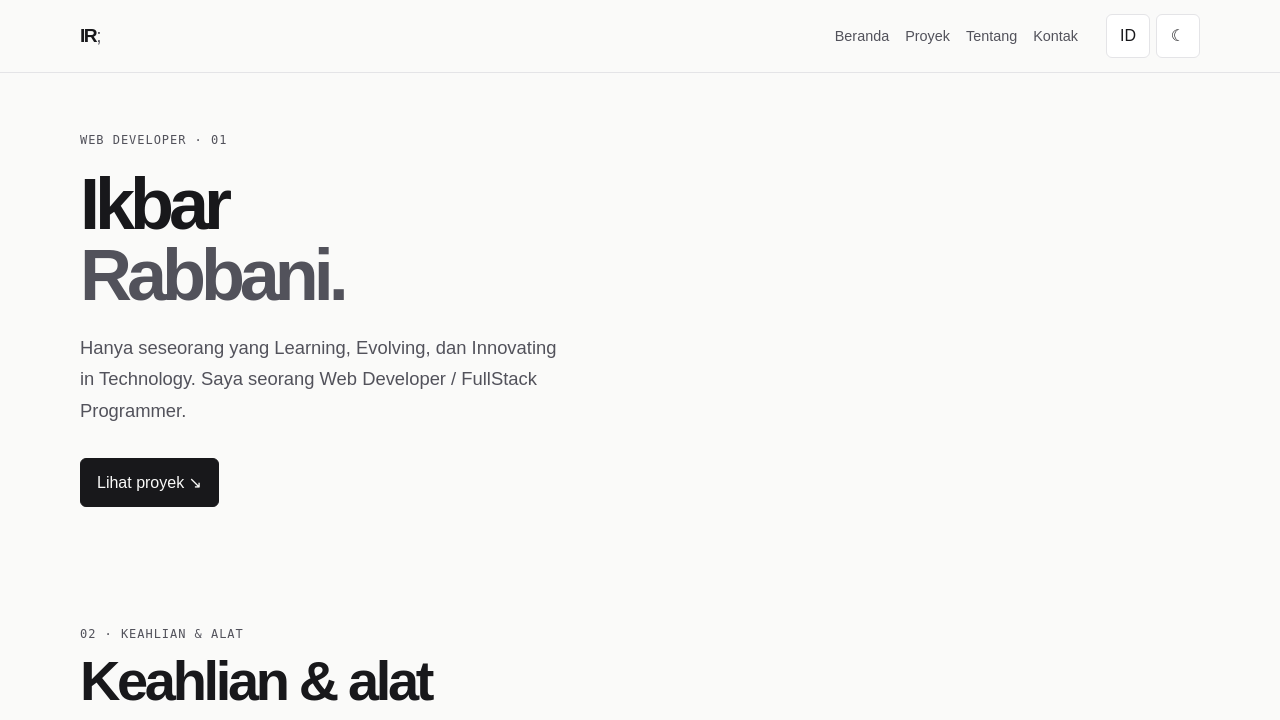
Scenario: routed portfolio › navigates from home to projects and detail
What coordinates should you click on to do the following:
click the link "Proyek"
I would click on:
 (928, 36)
Its box is [905,28,950,44].
(page scrolled)
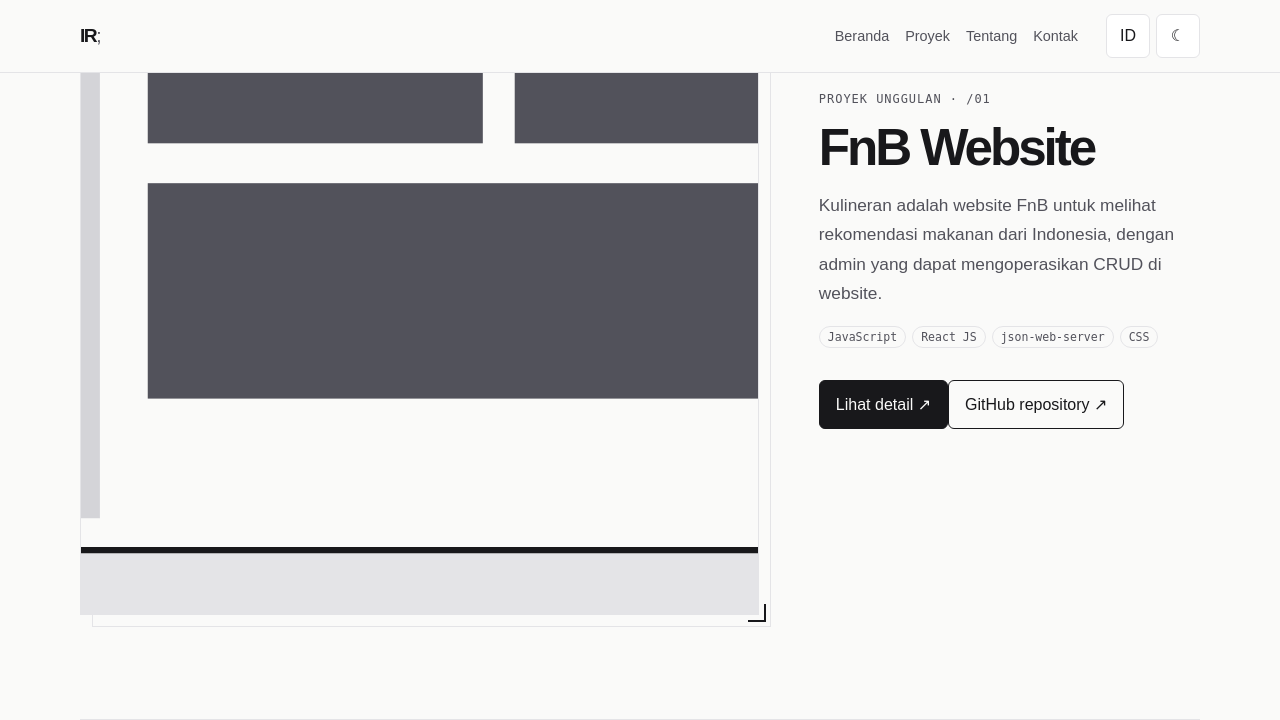
What coordinates should you click on to do the following:
click the link "Lihat detail ↗"
I would click on:
 (883, 404)
Its box is [819,380,948,429].
(page scrolled)
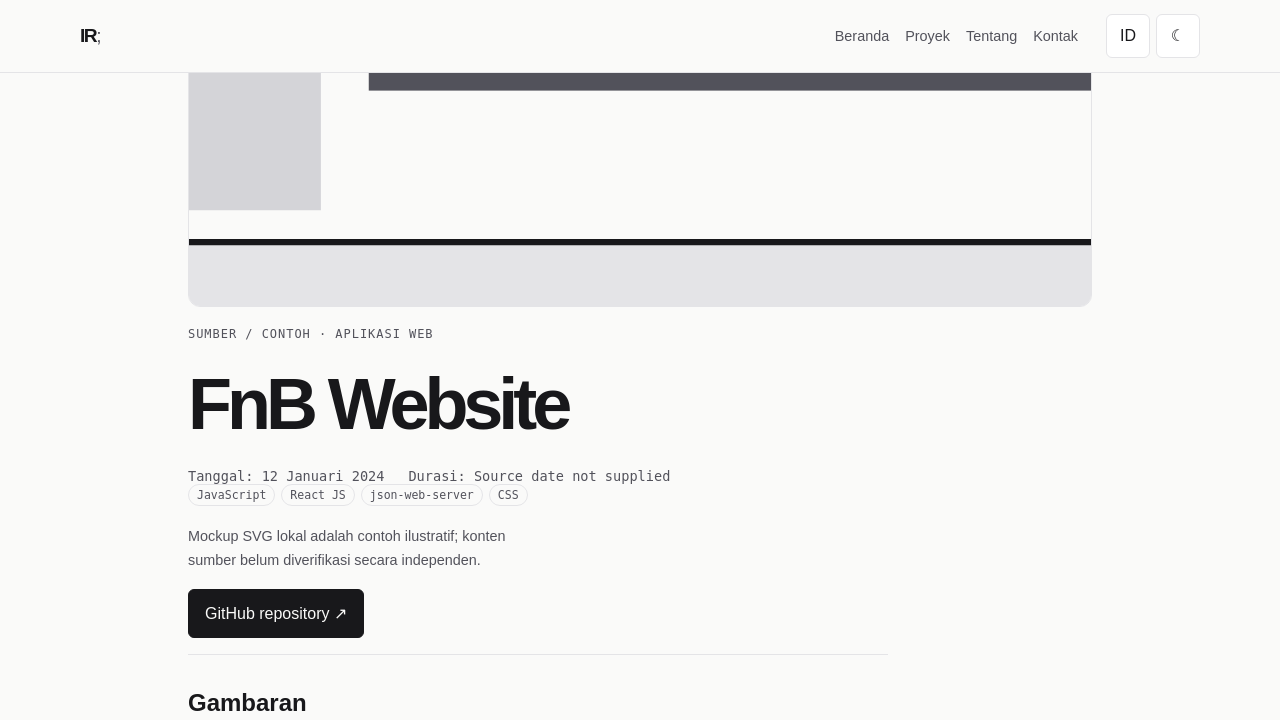
Now the heading "FnB Website" is shown, box [188,364,567,444]
